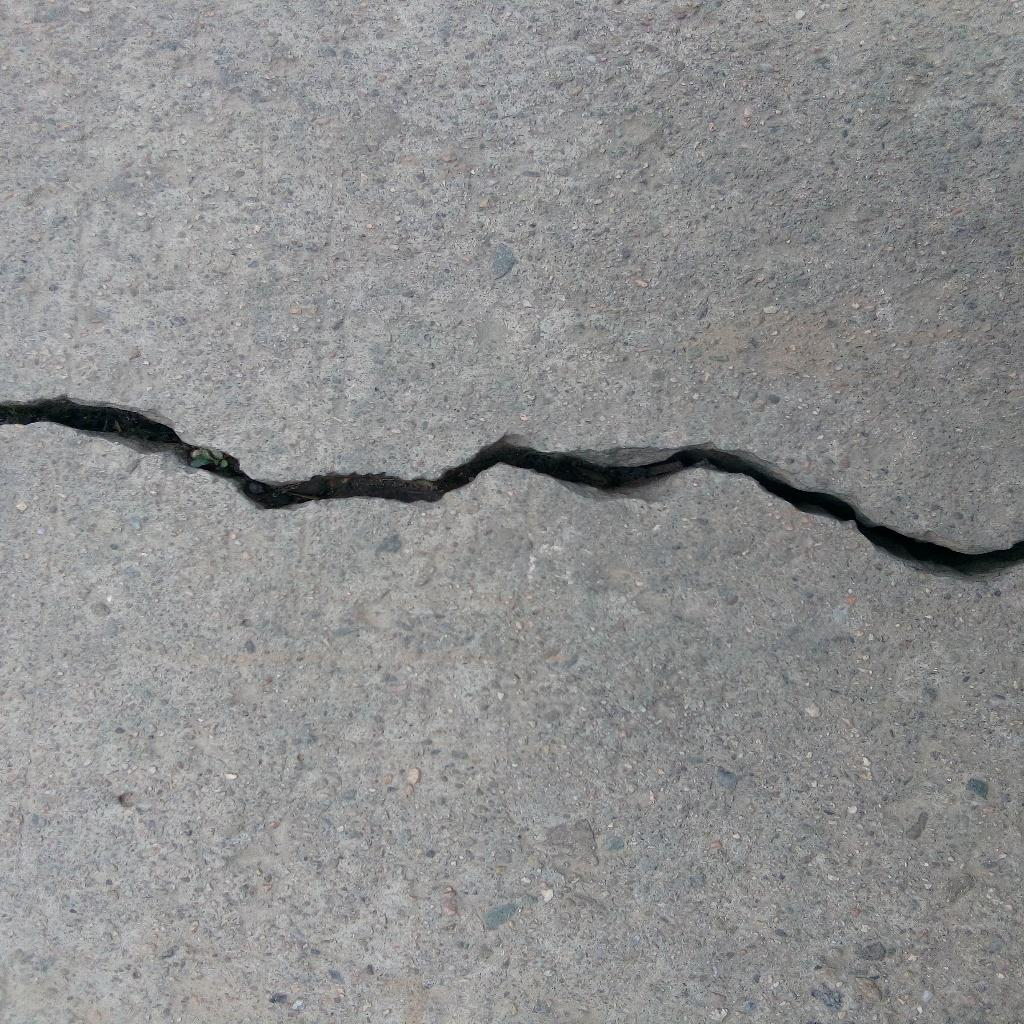Crack: (1, 391, 1024, 583)
